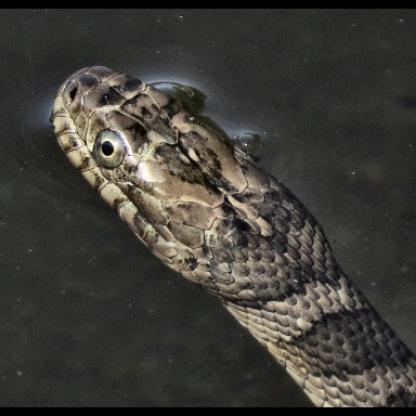Snake: (28, 52, 416, 361)
